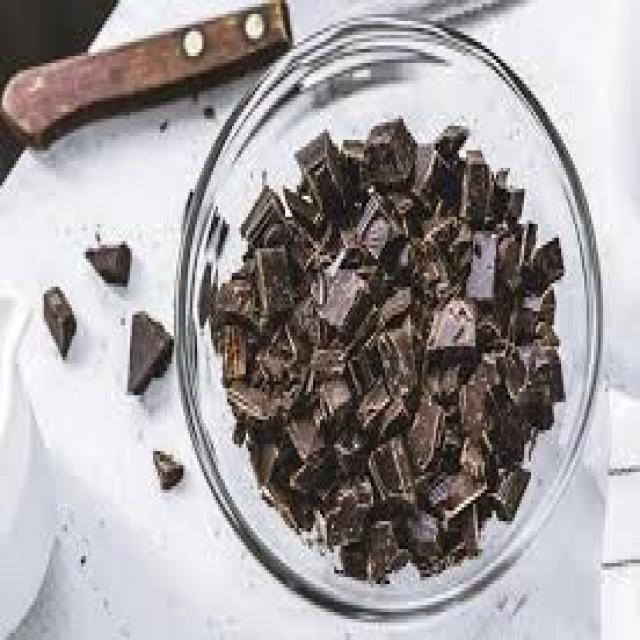Chocolate: (211, 118, 564, 590)
